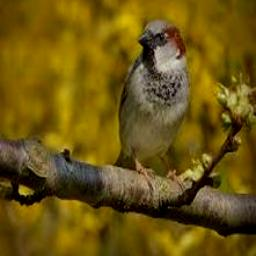Sparrow: (112, 18, 190, 179)
